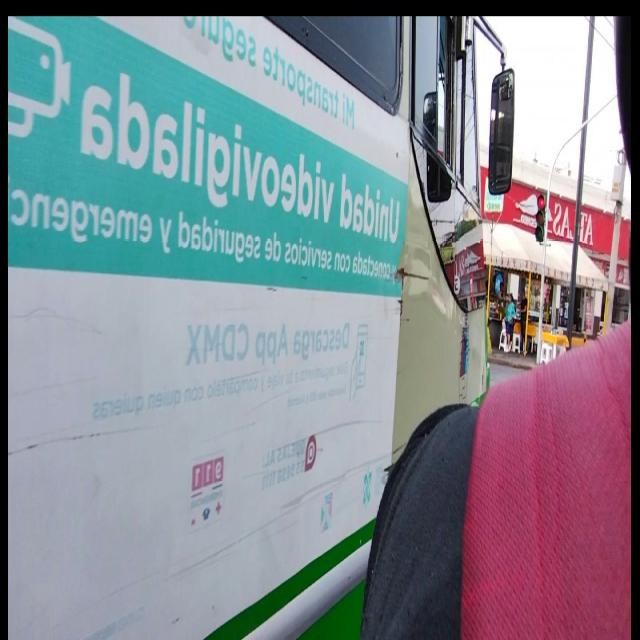adult: (518, 289, 528, 353), (504, 292, 514, 354)
